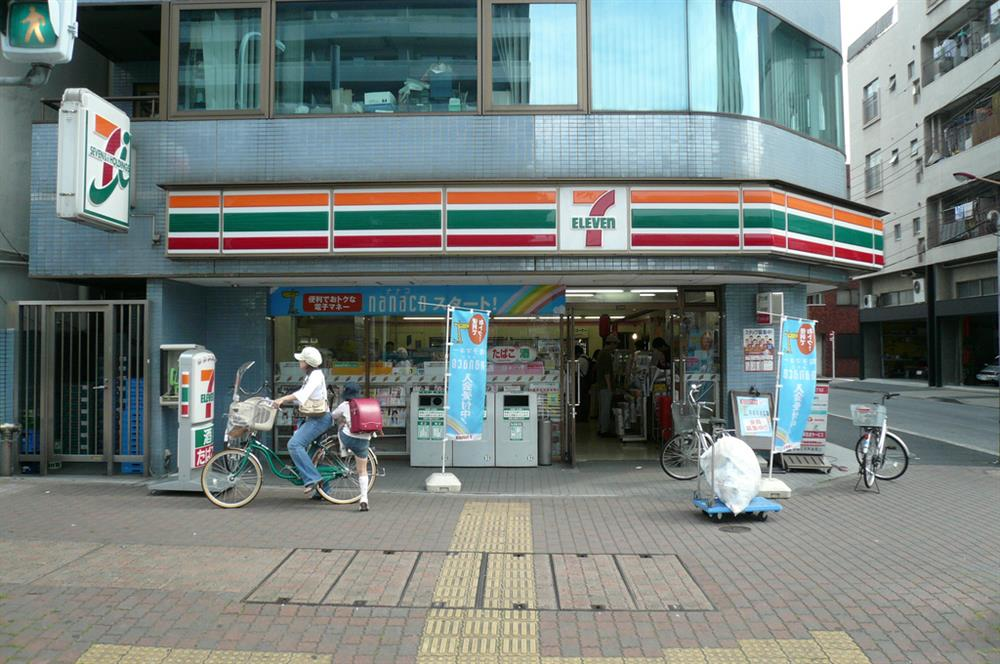seven_eleven: (565, 180, 631, 256)
